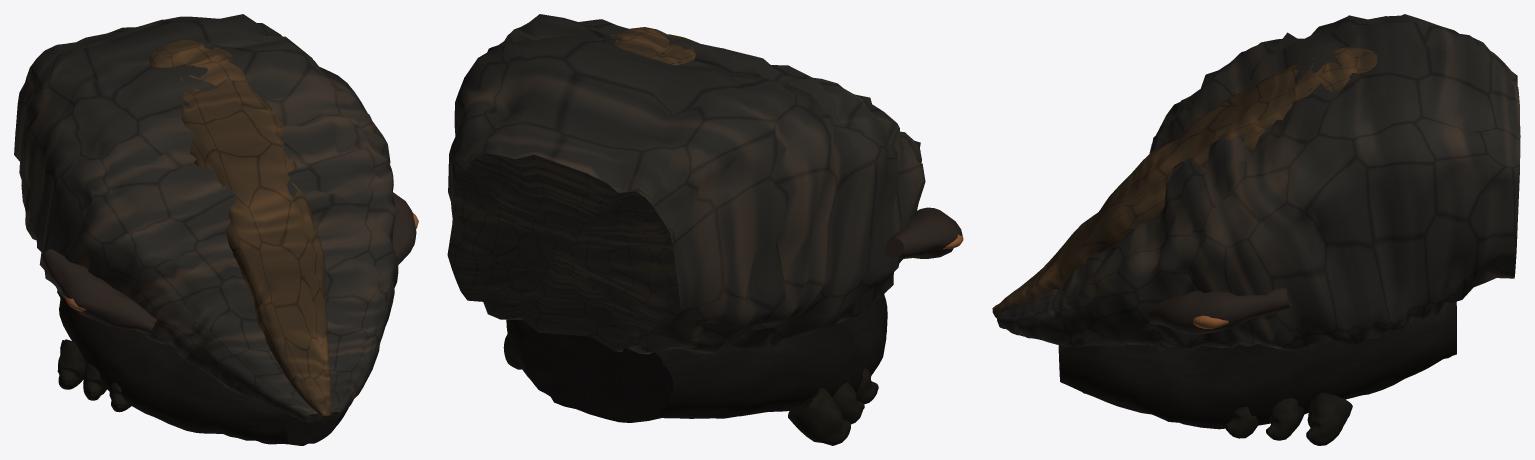
Rendered from SM_MineBorer_Head.glb.
3 renders of one model, left to right at view 1: azimuth 30°, elevation 25°; view 2: azimuth 150°, elevation 25°; view 3: azimuth 270°, elevation 25°, orthographic. The views are drawn at different scales.
Parts seen in each view (by area): view 1: SM_MineBorer_Head; view 2: SM_MineBorer_Head; view 3: SM_MineBorer_Head.
Boxes of the visible parts, x1,y1,x2,y2 form: SM_MineBorer_Head: [14, 14, 418, 445]; SM_MineBorer_Head: [447, 14, 963, 445]; SM_MineBorer_Head: [992, 14, 1520, 445].
Size of the model in its own units: 1.63 by 1.41 by 1.96.
Materials: 6 (4 with a texture image).
